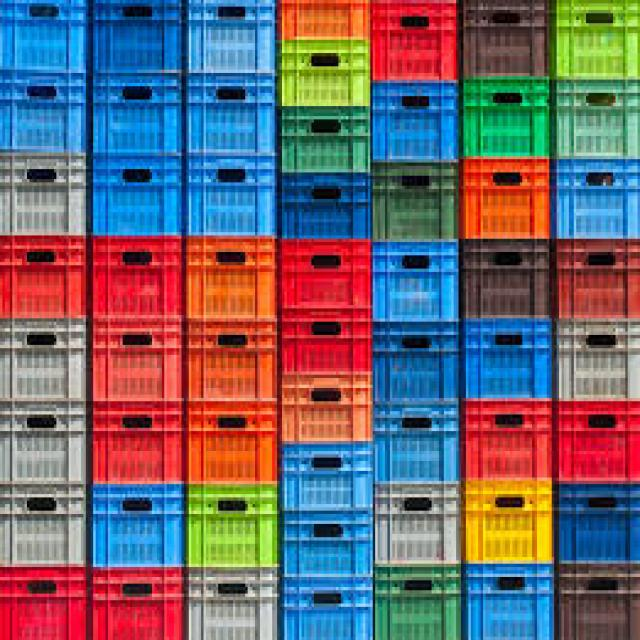basket: (186, 0, 277, 235), (0, 318, 86, 565), (187, 486, 281, 571), (93, 484, 184, 570), (371, 79, 461, 163), (466, 480, 556, 564), (186, 239, 277, 322), (463, 318, 554, 401), (189, 400, 277, 484), (93, 404, 185, 484), (460, 159, 552, 239), (91, 74, 182, 154), (0, 235, 87, 318), (375, 401, 462, 484), (93, 321, 183, 401), (93, 239, 184, 318), (0, 152, 86, 235), (373, 0, 459, 83), (463, 76, 552, 156), (466, 401, 554, 481), (375, 484, 461, 565), (372, 162, 459, 242), (375, 242, 462, 322), (93, 156, 181, 235), (189, 322, 277, 401), (375, 323, 461, 403), (463, 242, 552, 318), (375, 565, 465, 640), (466, 567, 558, 640), (282, 239, 373, 312), (282, 444, 375, 514), (93, 0, 181, 73), (93, 570, 184, 640), (189, 570, 280, 640), (281, 375, 373, 444), (0, 567, 86, 640), (282, 105, 370, 172), (282, 40, 370, 106), (281, 176, 370, 239), (285, 514, 371, 579), (285, 581, 371, 640)
